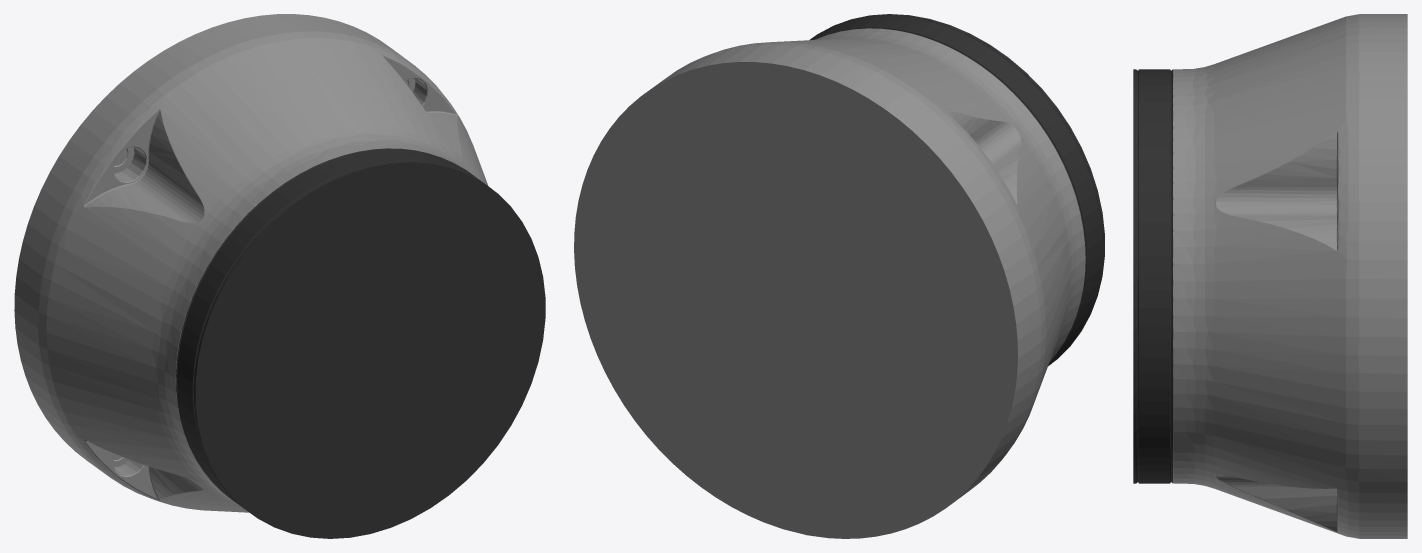
3 views of the same model, side by side, from view 1: azimuth 30°, elevation 25°; view 2: azimuth 150°, elevation 25°; view 3: azimuth 270°, elevation 25° (orthographic). The views are drawn at different scales.
Visible parts, largest first — view 1: geometry_0; view 2: geometry_0; view 3: geometry_0.
Boxes of the visible parts, left/top/right/bottom form: geometry_0: left=14, top=14, right=545, bottom=538; geometry_0: left=574, top=14, right=1104, bottom=538; geometry_0: left=1133, top=14, right=1407, bottom=538.
Bounding box in the file's own units: 0.19 × 0.1899 × 0.0993.
Materials: 1 (1 with a texture image).
